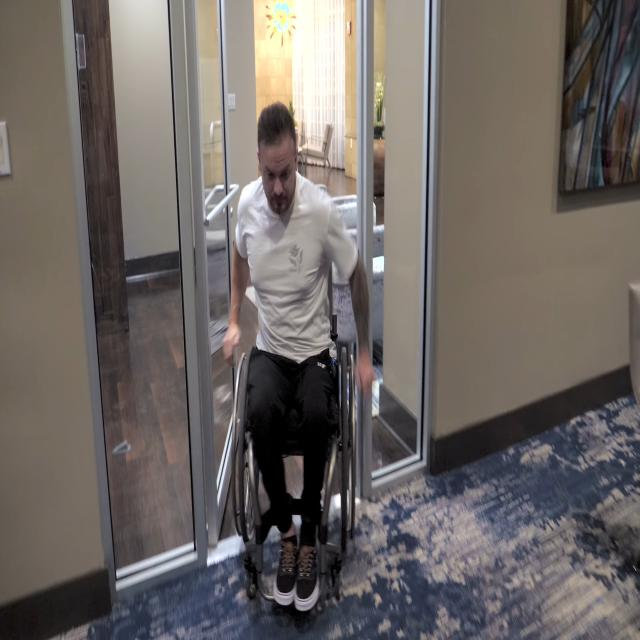wheelchairs: (228, 282, 358, 623)
